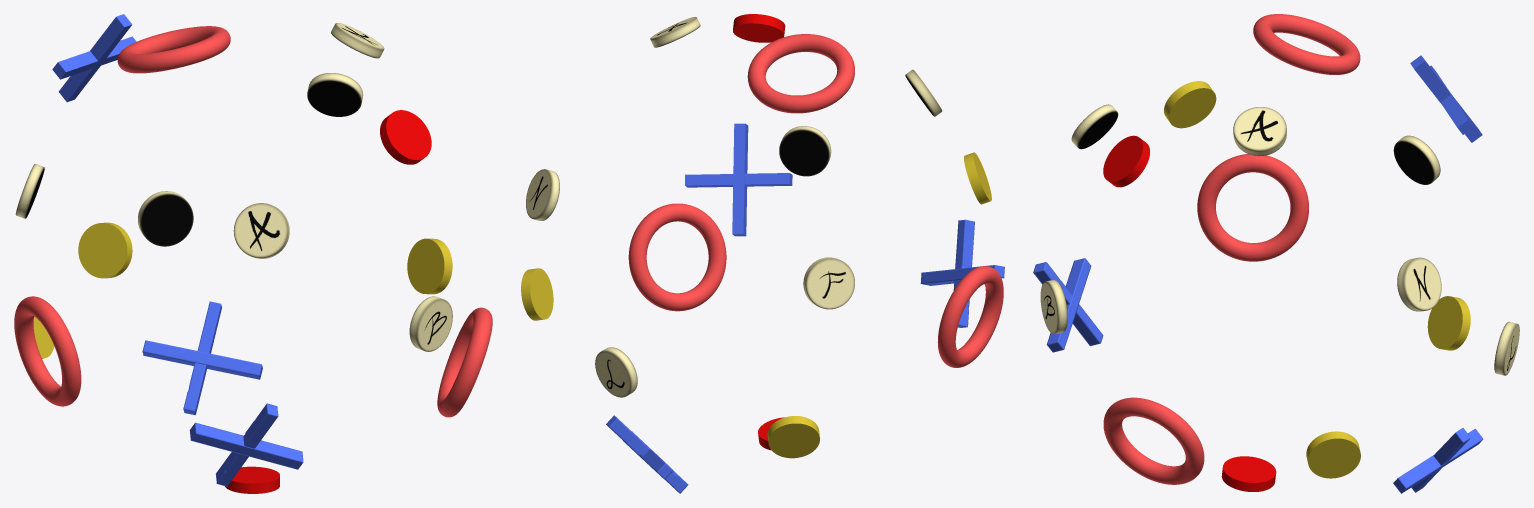
Rendered from about_zvrk.glb.
3 renders of one model, left to right at view 1: azimuth 30°, elevation 25°; view 2: azimuth 150°, elevation 25°; view 3: azimuth 270°, elevation 25°, orthographic. The views are drawn at different scales.
Visible parts, largest first — view 1: object 1, object 3, object 11, object 9, Cylinder 3, Cylinder 1, Cylinder 2, Cylinder 4, Cylinder; view 2: object 1, object 3, Cylinder, object 11, Cylinder 2, Cylinder 1, object 9, Cylinder 3; view 3: object 1, object 3, object 11, Cylinder 2, Cylinder, Cylinder 3, Cylinder 1, object 9, Cylinder 4.
Part boxes in pixels (x1,y1,x2,y2): object 1: (14,14,492,417); object 3: (15,23,452,351); object 11: (191,404,303,486); object 9: (142,301,261,414); Cylinder 3: (78,222,132,278); Cylinder 1: (380,110,431,164); Cylinder 2: (407,238,452,294); Cylinder 4: (225,466,279,493); Cylinder: (33,316,54,358); object 1: (628,34,1003,367); object 3: (526,17,942,397); Cylinder: (767,416,819,458); object 11: (920,219,1003,327); Cylinder 2: (521,268,553,320); Cylinder 1: (733,14,785,42); object 9: (609,418,688,493); Cylinder 3: (964,152,991,204); object 1: (1103,14,1482,484); object 3: (1040,104,1519,375); object 11: (1033,258,1103,349); Cylinder 2: (1306,431,1360,478); Cylinder: (1427,296,1470,350); Cylinder 3: (1164,81,1216,128); Cylinder 1: (1103,135,1149,187); object 9: (1398,428,1483,493); Cylinder 4: (1221,456,1276,491).
Size of the model in its own units: 1.2 by 1.15 by 1.16.
